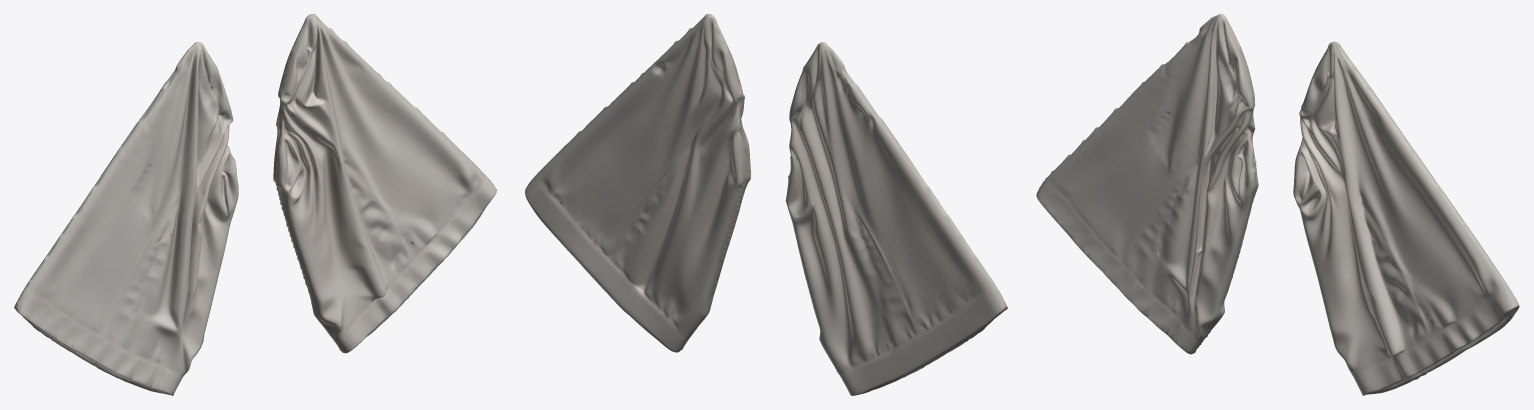
Rendered from sleeves.glb.
The picture shows the model from 3 angles, left to right: view 1: azimuth 30°, elevation 25°; view 2: azimuth 150°, elevation 25°; view 3: azimuth 330°, elevation 25°; orthographic projection.
Parts seen in each view (by area): view 1: node_0; view 2: node_0; view 3: node_0.
Boxes of the visible parts, x1=… form: node_0: x1=14, y1=14, x2=496, y2=395; node_0: x1=525, y1=14, x2=1007, y2=395; node_0: x1=1036, y1=14, x2=1519, y2=395.
Size of the model in its own units: 1.18 by 0.8094 by 0.0573.
1 material, 1 textured.
